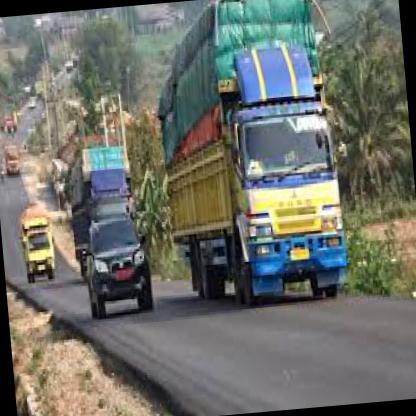truck: (223, 97, 353, 311), (25, 227, 59, 287)
